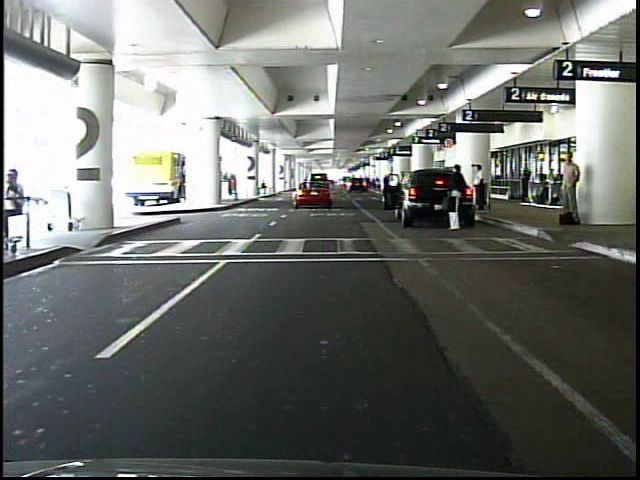person: (1, 169, 32, 236), (447, 165, 466, 233), (471, 164, 487, 212), (519, 162, 532, 201)
